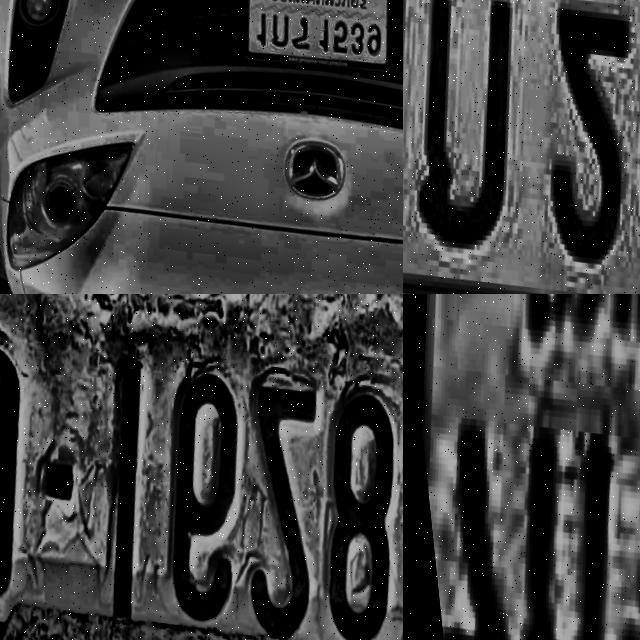license-plate: (0, 294, 403, 640), (403, 294, 640, 640), (403, 0, 640, 294), (229, 0, 401, 83)
